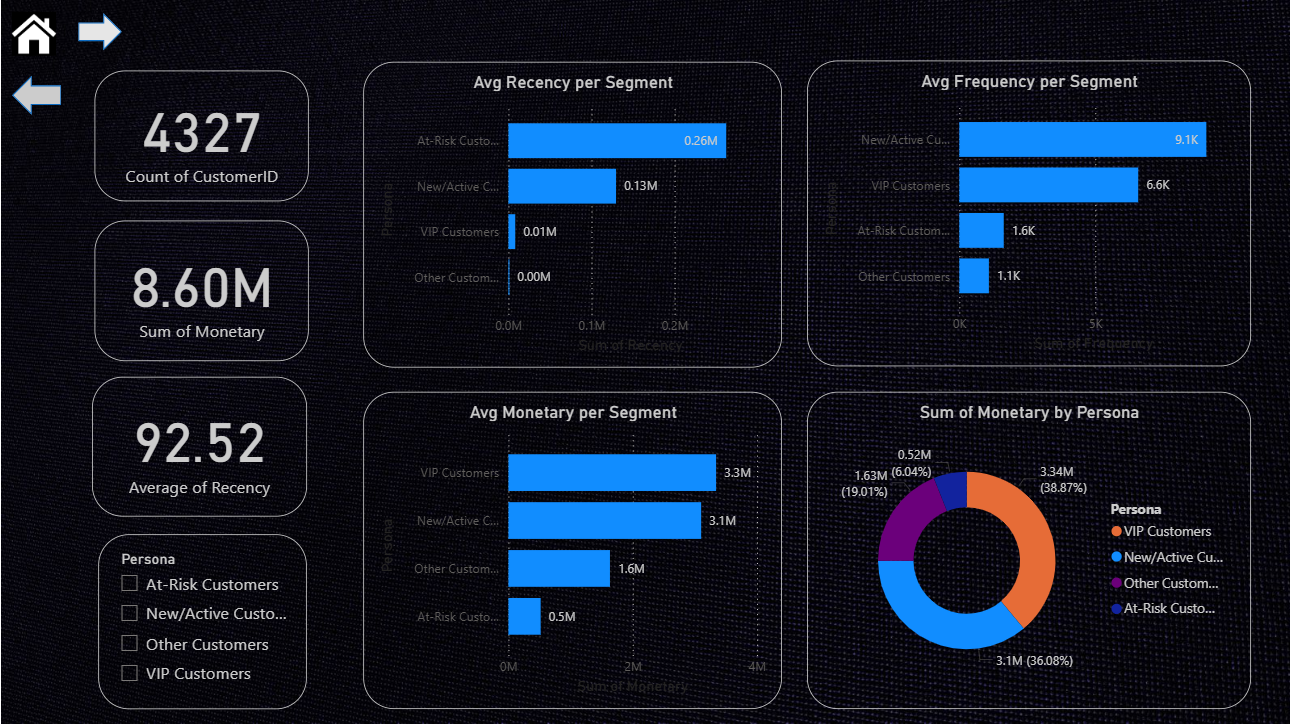

Layout of this report page (visuals, bound fields, positions):
{"tool":"powerbi","page":{"name":"Segment Profiles","canvas":[1280,720],"ordinal":3},"visuals":[{"type":"image","box":[0,0,1280.3,720.2],"z":0},{"type":"image","box":[14.5,13.3,53.1,53.1],"z":1000},{"type":"donutChart","fields":{"Category":["Personas.Persona"],"Y":["Sum(Customer_Features.Monetary)"]},"box":[797.3,390.1,434.1,310.6],"z":2000},{"type":"clusteredBarChart","title":"Avg Frequency per Segment","fields":{"Y":["Sum(Customer_Features.Frequency)"],"Category":["Personas.Persona"]},"box":[797.3,66,434.1,299.6],"z":3000},{"type":"clusteredBarChart","title":"Avg Recency per Segment","fields":{"Y":["Sum(Customer_Features.Recency)"],"Category":["Personas.Persona"]},"box":[363.2,67.3,409.6,299.6],"z":4000},{"type":"clusteredBarChart","title":"Avg Monetary per Segment","fields":{"Y":["Sum(Customer_Features.Monetary)"],"Category":["Personas.Persona"]},"box":[363.2,390.1,409.6,310.6],"z":5000},{"type":"card","fields":{"Values":["CountNonNull(Customer_Features.CustomerID)"]},"box":[100.1,76,209.9,127.9],"z":6000},{"type":"card","fields":{"Values":["Sum(Customer_Features.Monetary)"]},"box":[100.1,222,209.9,137.5],"z":7000},{"type":"slicer","fields":{"Values":["Personas.Persona"]},"box":[103.9,529.5,204.2,171.2],"z":8000},{"type":"card","fields":{"Values":["Avg(Customer_Features.Recency)"]},"box":[98.2,375.3,210,136.5],"z":9000},{"type":"shape","box":[84.4,19.6,42.8,36.7],"z":9001},{"type":"shape","box":[19.3,80.8,48.3,38.6],"z":9002}]}

Visuals, with their boxes in screenshot pixels (x1, y1, x2, y2), scaled from the page's 1280x720 canvas onto the 1290x724 screenshot:
image: 0 0 1289 723
image: 15 13 68 67
donutChart - Personas.Persona x Sum(Customer_Features.Monetary): 804 392 1241 705
"Avg Frequency per Segment" clusteredBarChart: 804 66 1241 368
"Avg Recency per Segment" clusteredBarChart: 366 68 779 369
"Avg Monetary per Segment" clusteredBarChart: 366 392 779 705
card - CountNonNull(Customer_Features.CustomerID): 101 76 312 205
card - Sum(Customer_Features.Monetary): 101 223 312 361
slicer - Personas.Persona: 105 532 311 705
card - Avg(Customer_Features.Recency): 99 377 311 515
shape: 85 20 128 57
shape: 19 81 68 120
